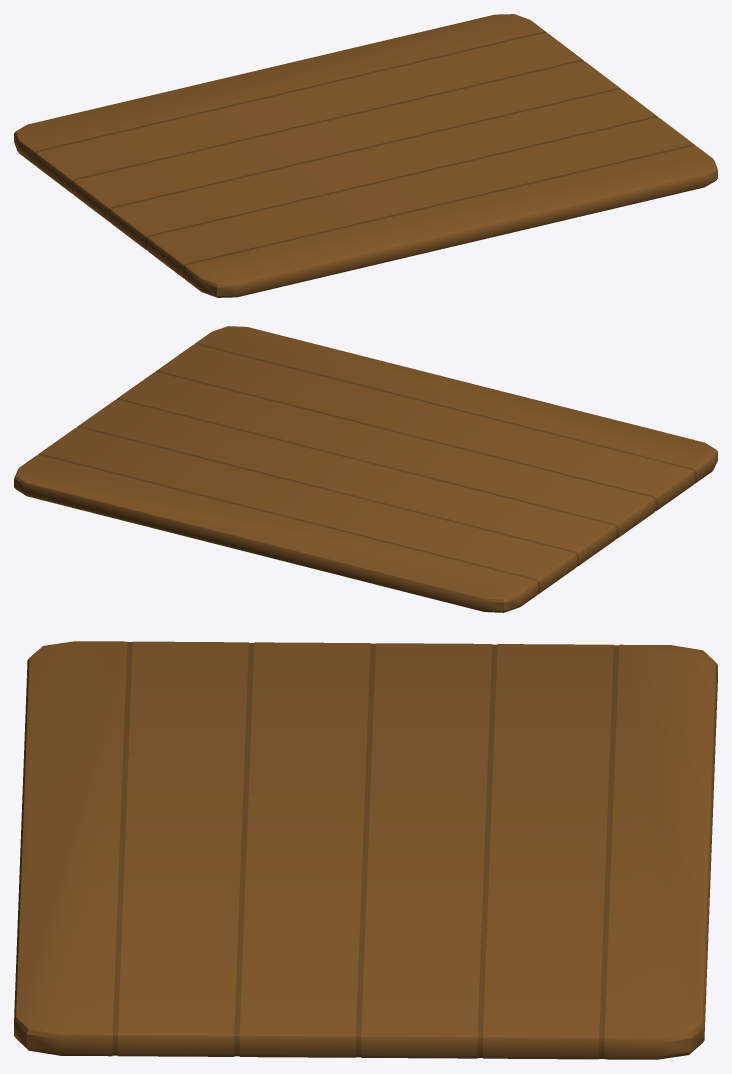
File: Board_1.fbx
3 views of the same model, one above another, from view 1: azimuth 30°, elevation 25°; view 2: azimuth 150°, elevation 25°; view 3: azimuth 270°, elevation 25° (orthographic). The views are drawn at different scales.
Parts seen in each view (by area): view 1: Board_1; view 2: Board_1; view 3: Board_1.
Part boxes in pixels (<box>): Board_1: <box>14,14,717,297</box>; Board_1: <box>14,326,717,612</box>; Board_1: <box>14,641,717,1059</box>.
Bounding box in the file's own units: 57.88 × 1.66 × 43.15.
